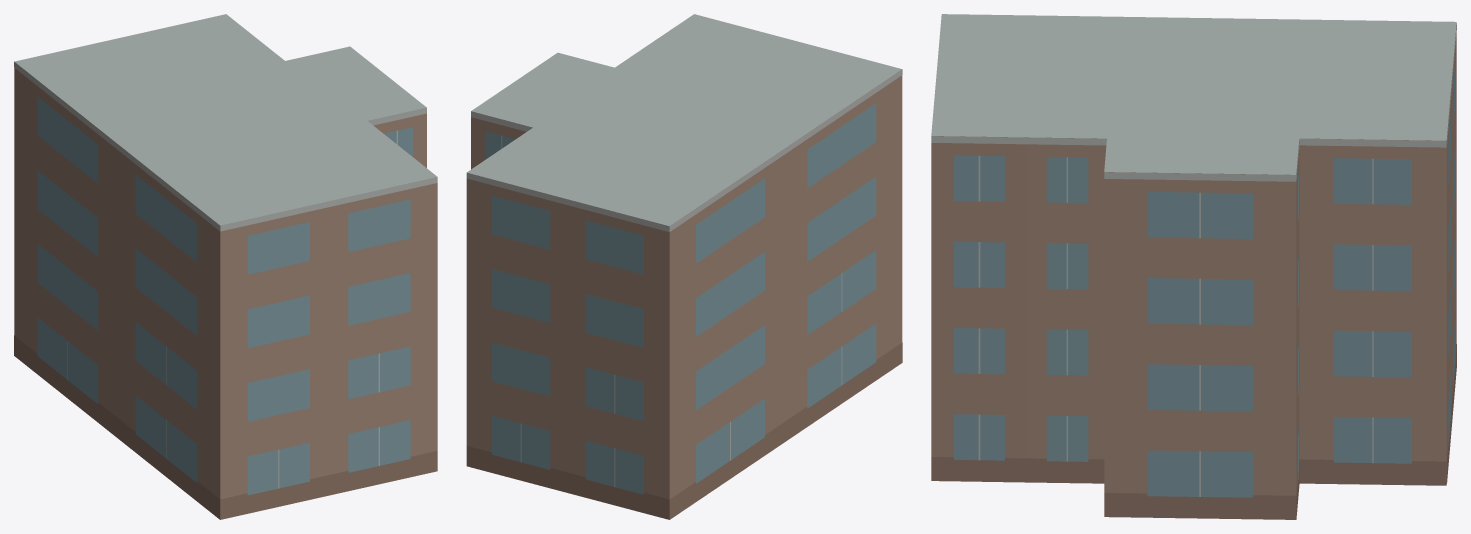
Rendered from residential-627cb32d-d244-49d2-bba3-fe55263e5d75.glb.
3 renders of one model, left to right at view 1: azimuth 30°, elevation 25°; view 2: azimuth 150°, elevation 25°; view 3: azimuth 270°, elevation 25°, orthographic. The views are drawn at different scales.
Visible parts, largest first — view 1: residential-627cb32d-d244-49d2-bba3-fe55263e5d75.tmp; view 2: residential-627cb32d-d244-49d2-bba3-fe55263e5d75.tmp; view 3: residential-627cb32d-d244-49d2-bba3-fe55263e5d75.tmp.
Part boxes in pixels (bbox=[...]): residential-627cb32d-d244-49d2-bba3-fe55263e5d75.tmp: bbox=[14, 14, 437, 519]; residential-627cb32d-d244-49d2-bba3-fe55263e5d75.tmp: bbox=[466, 14, 902, 519]; residential-627cb32d-d244-49d2-bba3-fe55263e5d75.tmp: bbox=[931, 14, 1456, 519].
Size of the model in its own units: 12.21 by 12.2 by 16.85.
